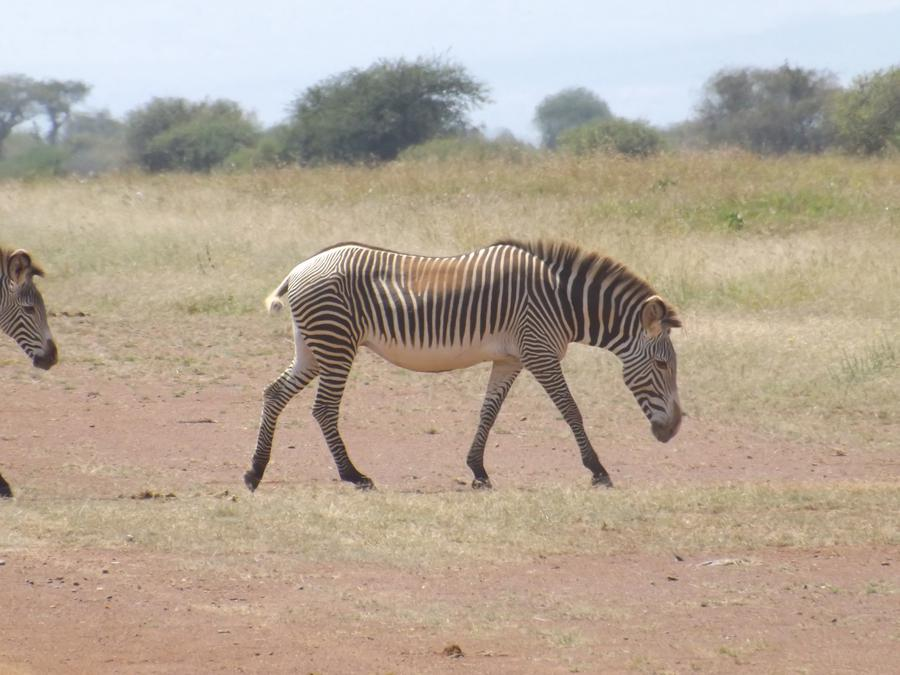zebra_grevys: (273, 220, 575, 369)
